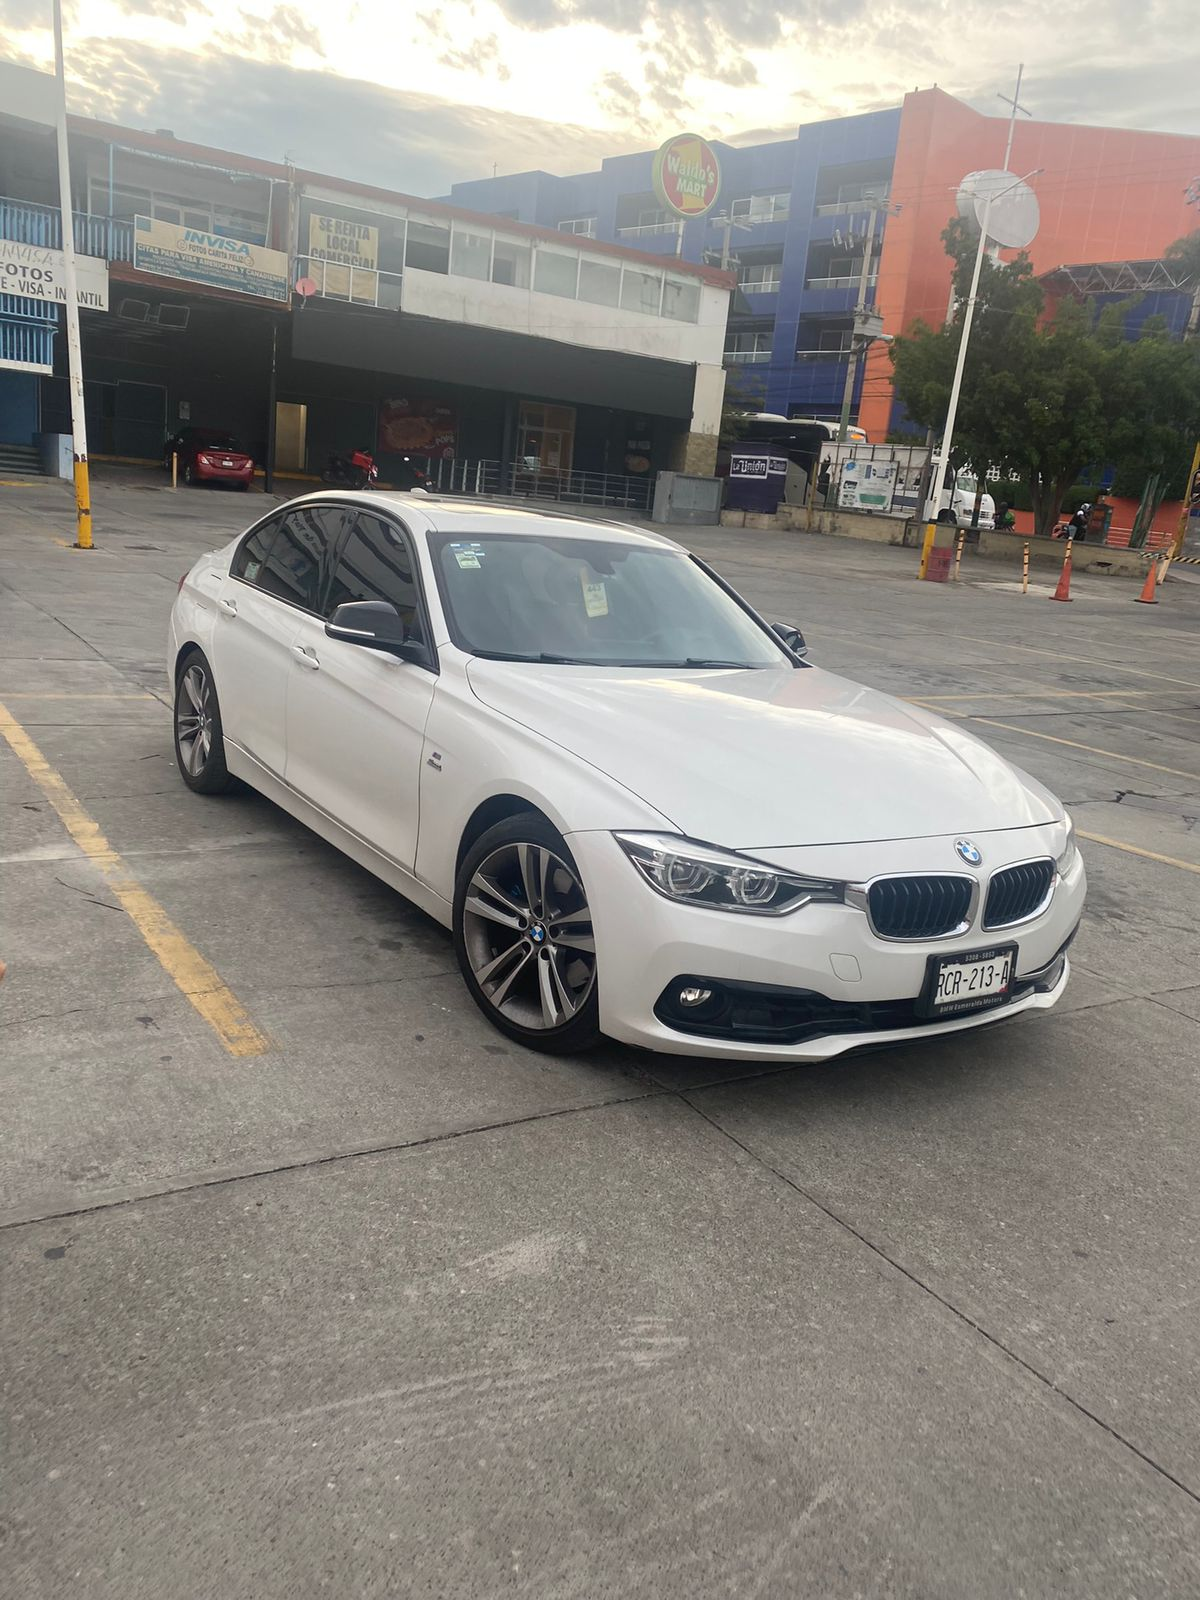Auto: (163, 480, 1092, 1075), (155, 431, 270, 490)
